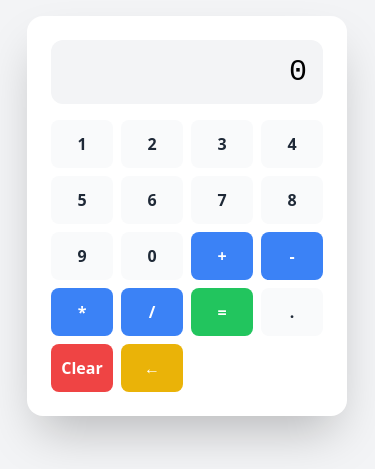
handles addition correctly
Step 1. Click the button "1" → (82, 144), box [51,120,113,168]
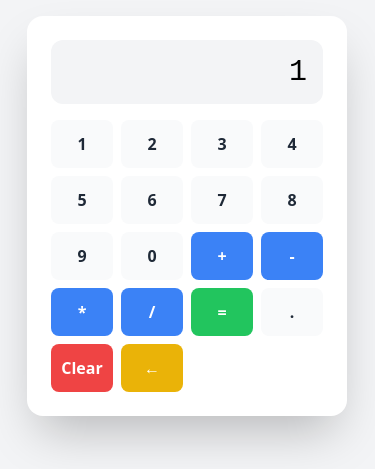
Step 2. Click the button "+" → (222, 256), box [191,232,253,280]
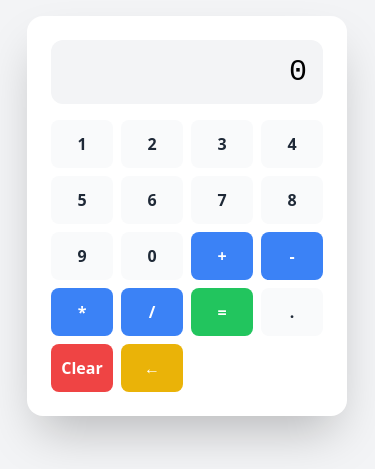
Step 3. Click the button "2" → (152, 144), box [121,120,183,168]
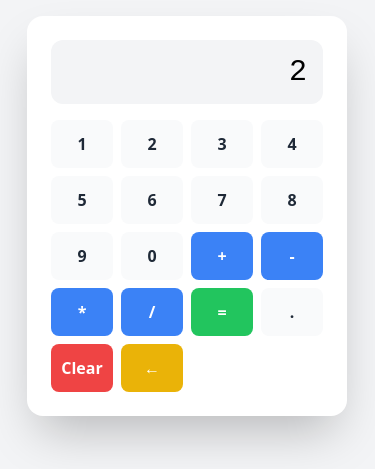
Step 4. Click the button "=" → (222, 312), box [191,288,253,336]
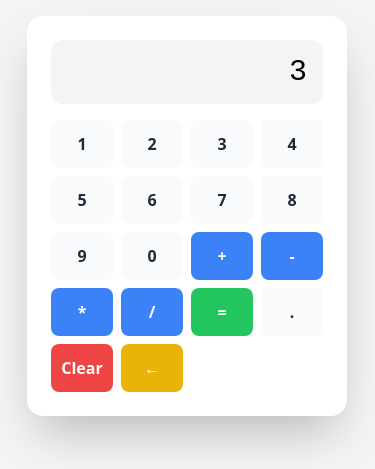
expect the text with test id "calculator-display" reads "3": met, box [289,55,307,89]
